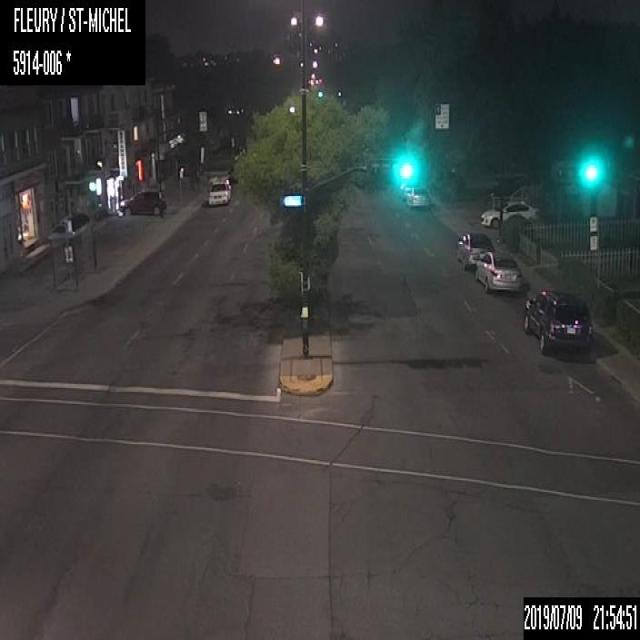vehicle: (518, 282, 594, 350), (475, 248, 521, 295), (480, 198, 538, 230), (454, 230, 493, 270), (118, 186, 166, 218), (403, 182, 429, 210), (206, 176, 232, 204)
